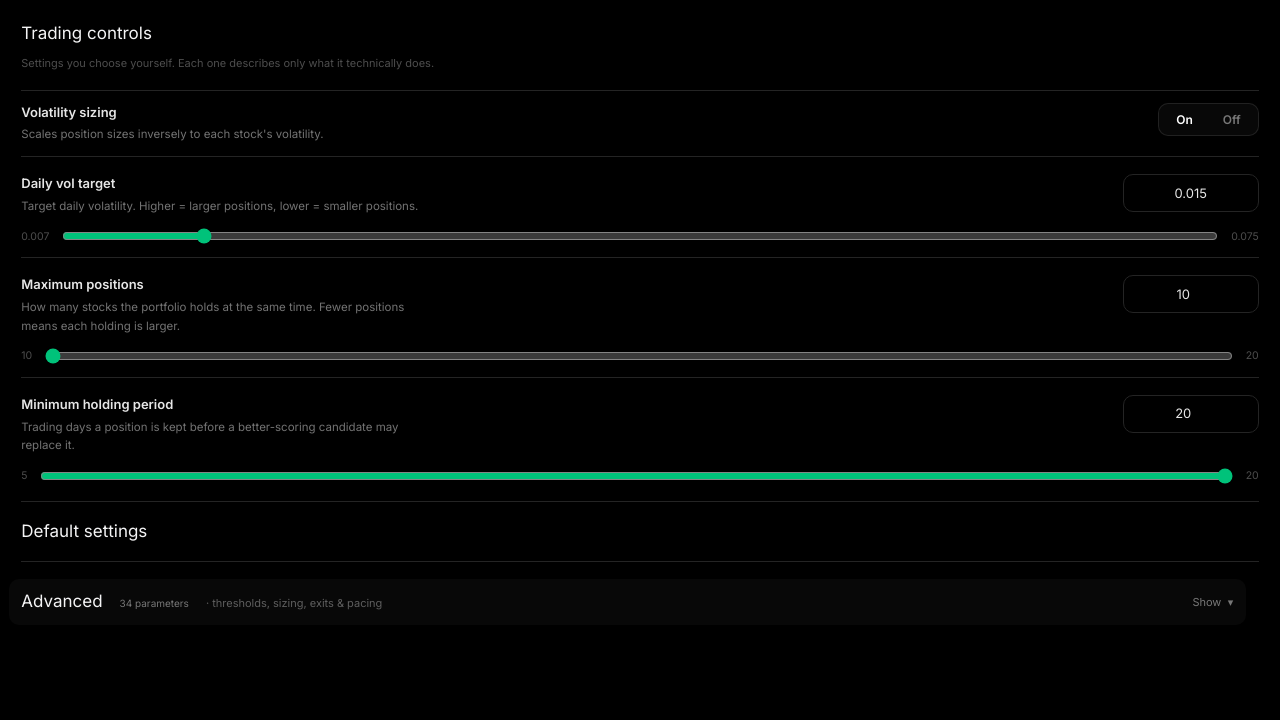
Test: #3132 portfolio-shape controls › surfaces that the change is pending, with no confirm offered while unchanged
Expected: the button "apply changes" is not shown
Set the slider named "Maximum positions slider" to "20" at (1225, 356), box [45, 348, 1233, 364]
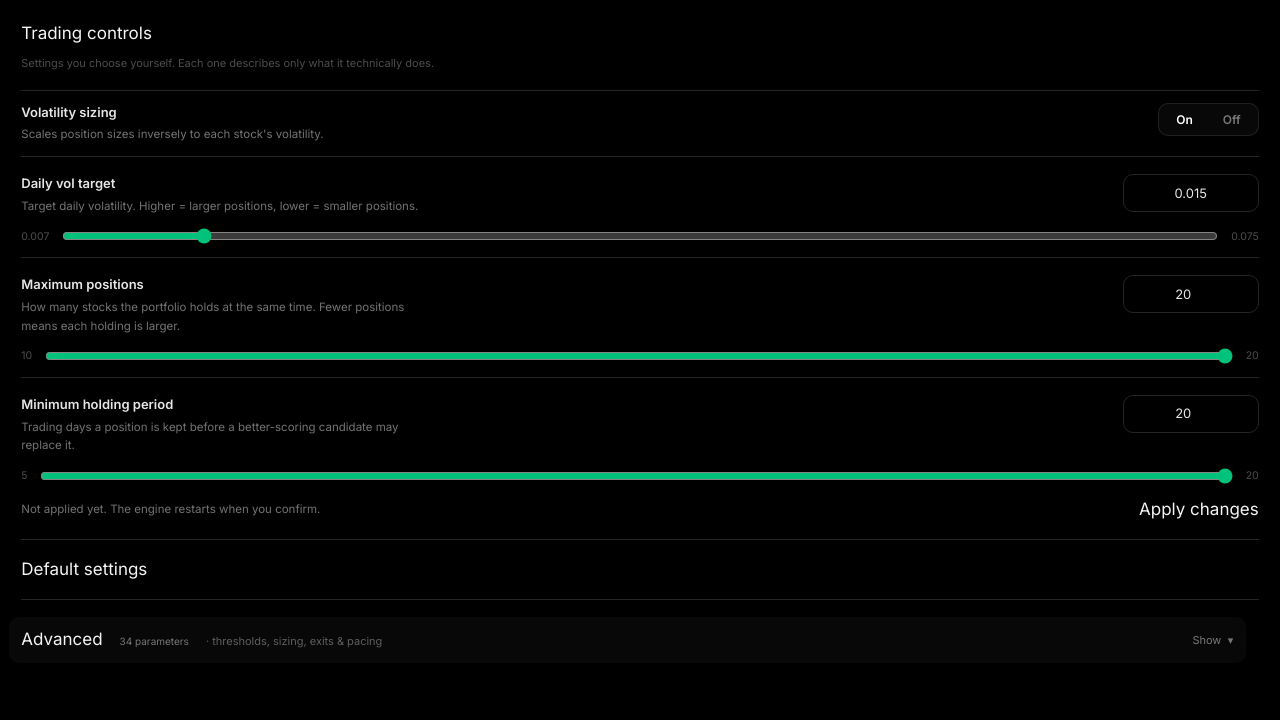
Expected: the text "Not applied yet. The engine restarts when you confirm." is shown, [21, 500, 320, 518]
Expected: the button "Apply changes" is shown, [1139, 496, 1259, 522]
